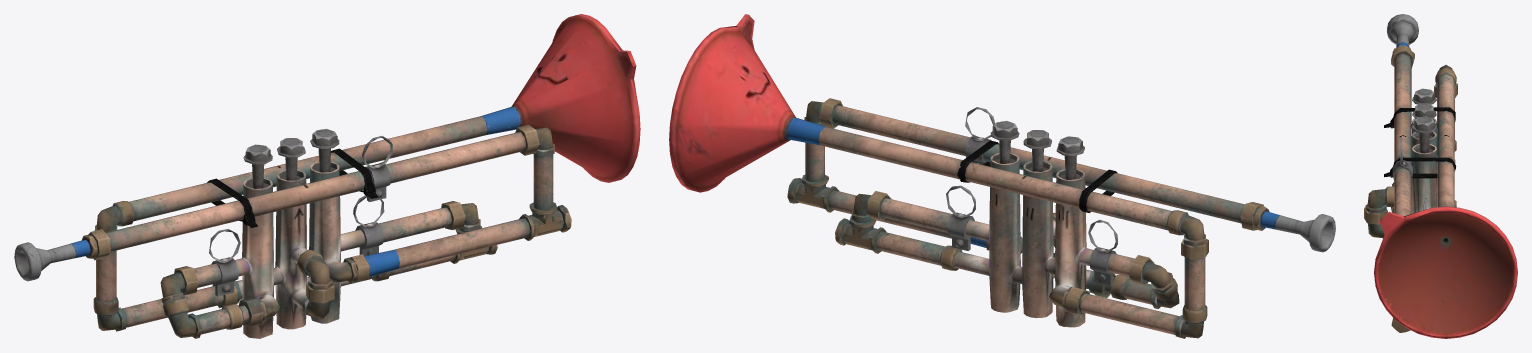
Rendered from trumpet.worldmodel.glb.
3 renders of one model, left to right at view 1: azimuth 30°, elevation 25°; view 2: azimuth 150°, elevation 25°; view 3: azimuth 270°, elevation 25°, orthographic. The views are drawn at different scales.
Visible parts, largest first — view 1: trumpet_LOD0; view 2: trumpet_LOD0; view 3: trumpet_LOD0.
Boxes of the visible parts, x1=… form: trumpet_LOD0: x1=14, y1=14, x2=640, y2=338; trumpet_LOD0: x1=669, y1=14, x2=1335, y2=338; trumpet_LOD0: x1=1364, y1=14, x2=1517, y2=338.
Size of the model in its own units: 0.5405 by 0.1875 by 0.1429.
Materials: 1 (1 with a texture image).
